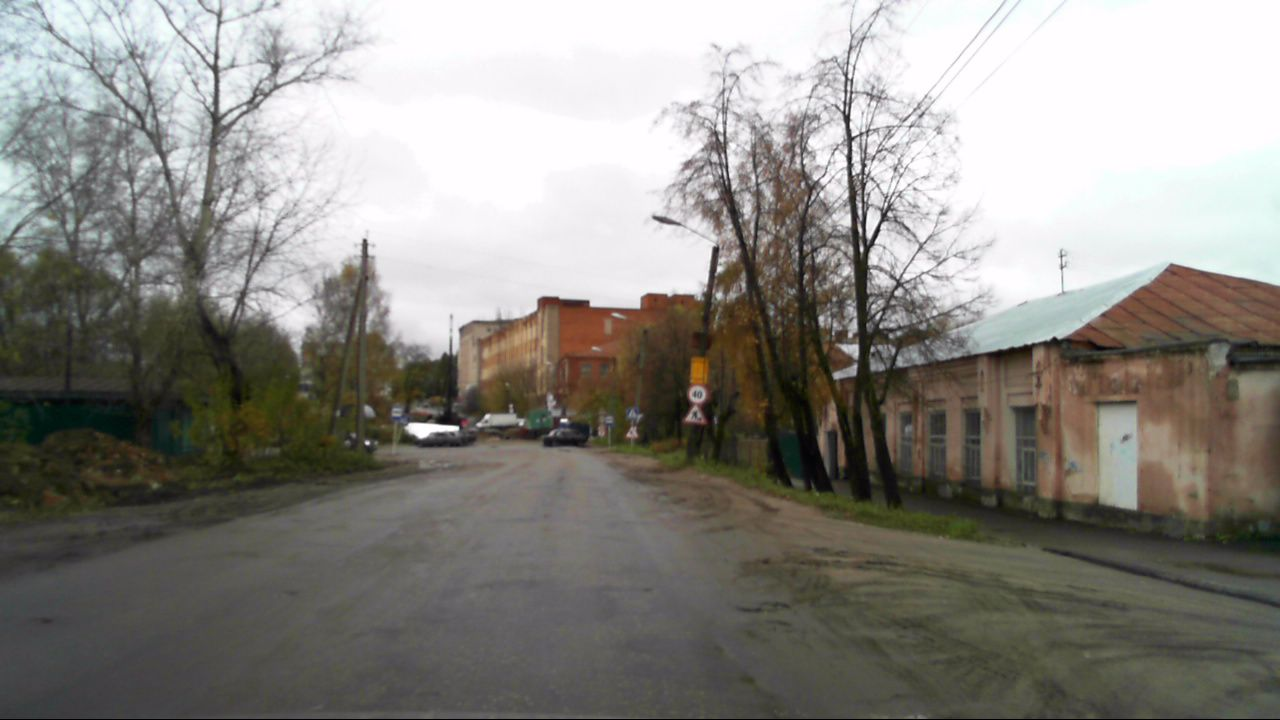speed_warning_40: (686, 382, 710, 403)
